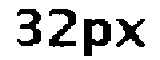2: (43, 6, 79, 52)
3: (8, 5, 43, 51)
p: (80, 13, 113, 60)
x: (115, 15, 148, 54)
